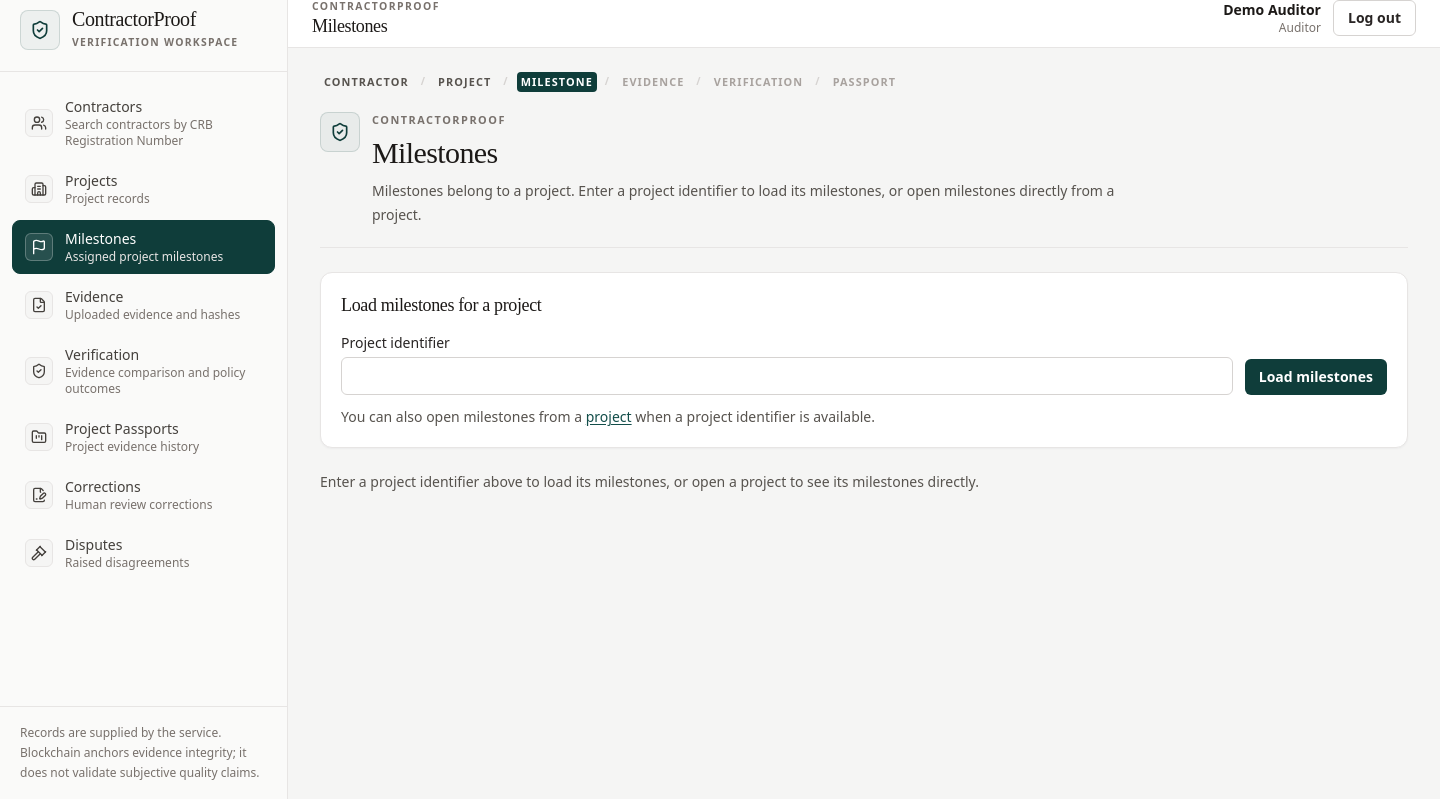
milestones › renders multiple milestone records
The width and height of the screenshot is (1440, 799).
In the field labelled "Project identifier": (787, 376) [341,358,1233,396], type "p1"
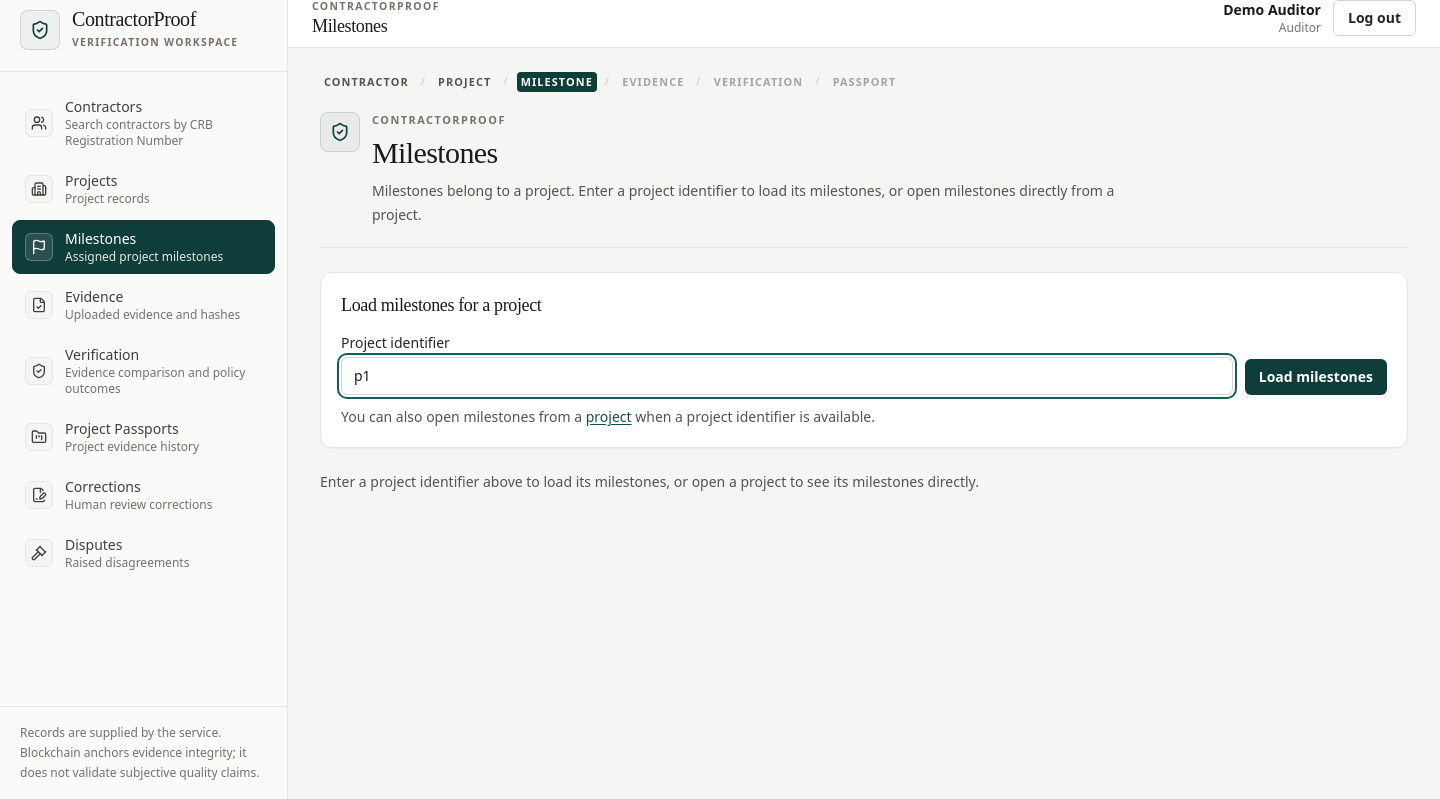
Click the button "Load milestones": (1316, 378) [1245,360,1387,396]
(page scrolled)
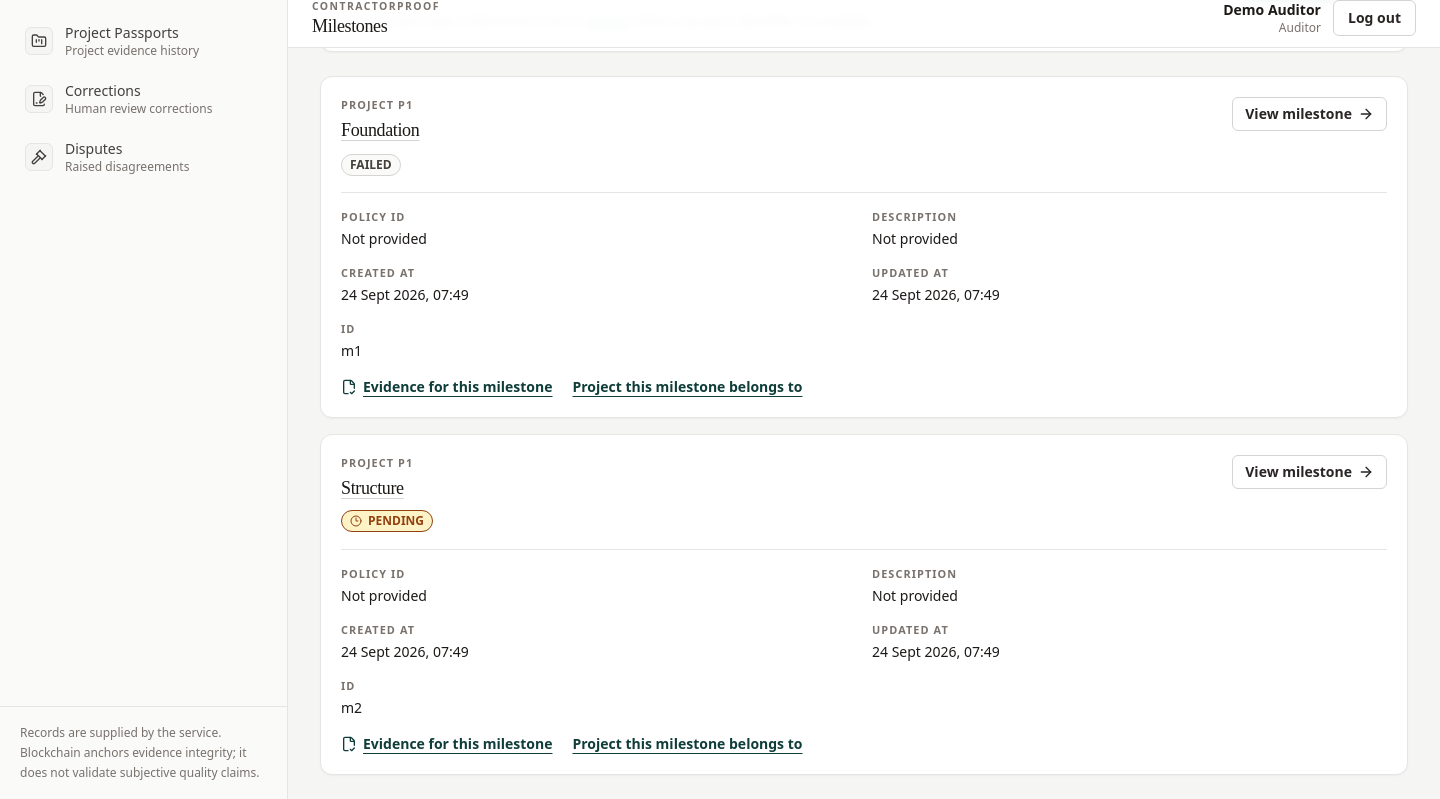
Result: the link "Foundation" is shown at [341,120,419,140]
Result: the link "Structure" is shown at [341,478,404,498]
Result: the text "FAILED" is shown at [350,156,392,172]
